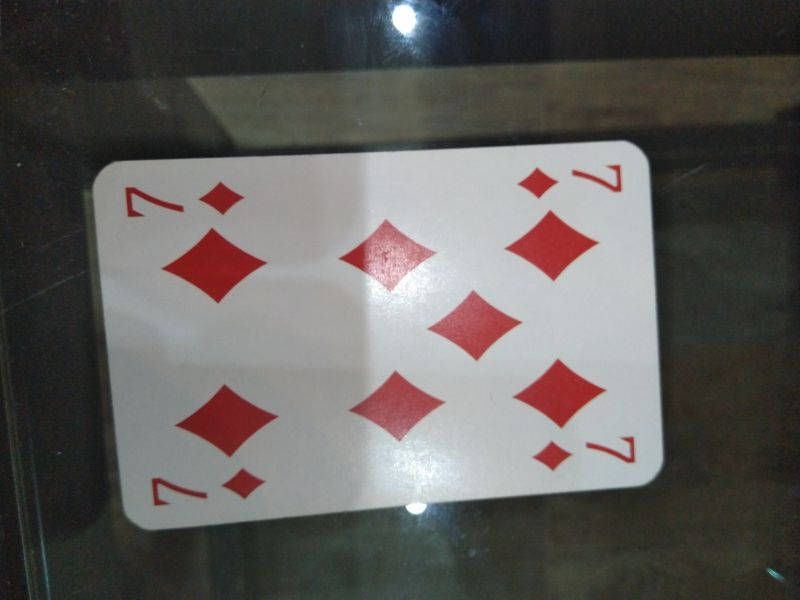7d: (119, 176, 250, 222), (144, 463, 270, 509), (514, 158, 630, 205), (530, 434, 640, 475)
